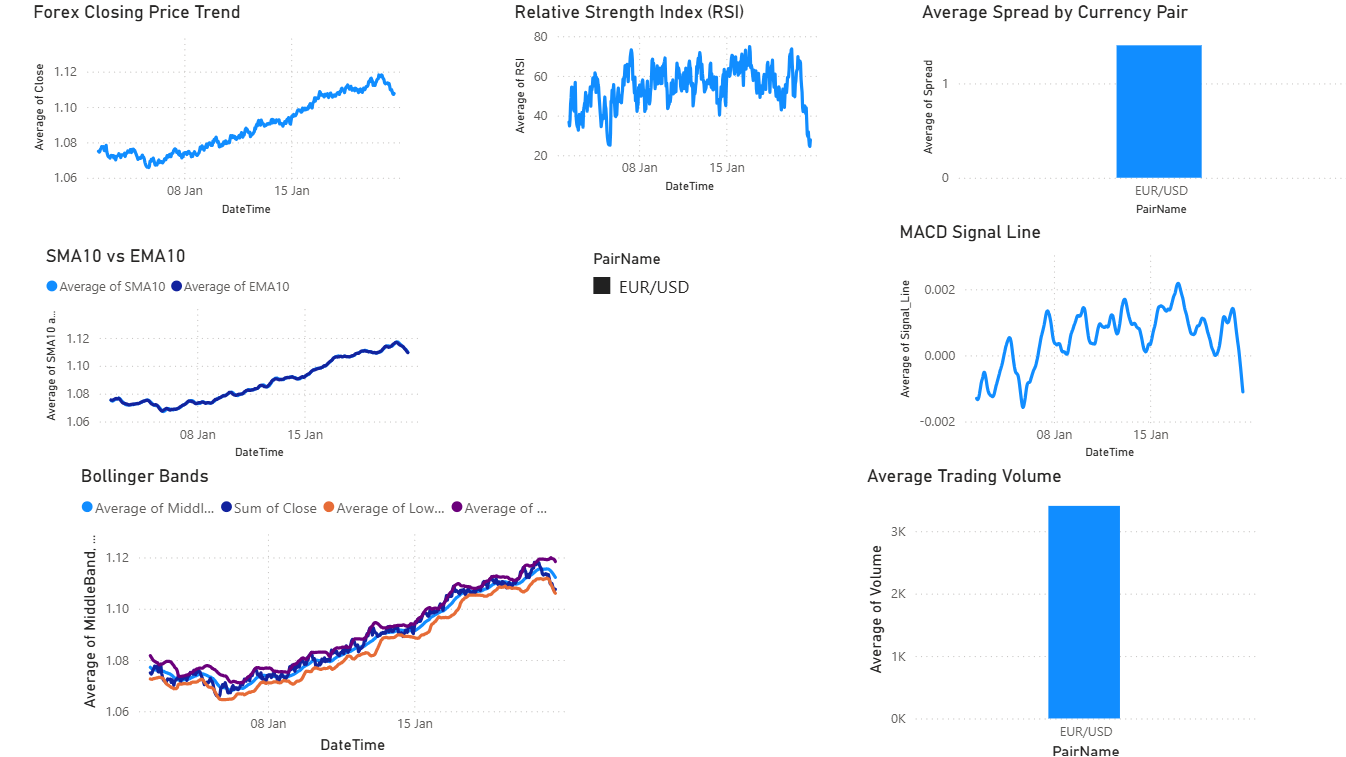

What the dashboard file says about the page in this screenshot:
{"tool":"powerbi","page":{"name":"Forex Market Analysis","canvas":[1280,720],"ordinal":1},"visuals":[{"type":"lineChart","title":"Forex Closing Price Trend","fields":{"Y":["Avg(forex_price_processed.Close)"],"Category":["forex_price_processed.DateTime"]},"box":[32.6,8.1,362.8,204.7],"z":0},{"type":"lineChart","title":"SMA10 vs EMA10","fields":{"Y":["Avg(forex_price_processed.SMA10)","Avg(forex_price_processed.EMA10)"],"Category":["forex_price_processed.DateTime"]},"box":[44.2,234.9,364,204.7],"z":1000},{"type":"lineChart","title":"Relative Strength Index (RSI)","fields":{"Y":["Avg(forex_price_processed.RSI)"],"Category":["forex_price_processed.DateTime"]},"box":[480.2,8.1,302.3,183.7],"z":2000},{"type":"lineChart","title":"MACD Signal Line","fields":{"Y":["Avg(forex_price_processed.Signal_Line)"],"Category":["forex_price_processed.DateTime"]},"box":[838.4,212.8,346.5,226.7],"z":3000},{"type":"lineChart","title":"Bollinger Bands","fields":{"Y":["Avg(forex_price_processed.Close)","Avg(forex_price_processed.MiddleBand)","Avg(forex_price_processed.LowerBand)","Avg(forex_price_processed.UpperBand)"],"Category":["forex_price_processed.DateTime"]},"box":[76.7,439.5,468.6,273.3],"z":4000},{"type":"clusteredColumnChart","title":"Average Spread by Currency Pair","fields":{"Category":["forex_price_processed.PairName"],"Y":["Avg(forex_price_processed.Spread)"]},"box":[859.3,8.1,420.9,204.7],"z":5000},{"type":"clusteredColumnChart","title":"Average Trading Volume","fields":{"Category":["forex_price_processed.PairName"],"Y":["Avg(forex_price_processed.Volume)"]},"box":[808.1,439.5,372.1,280.2],"z":6000},{"type":"slicer","fields":{"Values":["forex_price_processed.PairName"]},"box":[545.4,234.9,172.1,123.3],"z":7000}]}

Visuals, with their boxes in screenshot pixels (x1, y1, x2, y2), scaled from the page's 1280x720 canvas onto the 1346x757 screenshot:
"Forex Closing Price Trend" lineChart: [34, 9, 416, 224]
"SMA10 vs EMA10" lineChart: [46, 247, 429, 462]
"Relative Strength Index (RSI)" lineChart: [505, 9, 823, 202]
"MACD Signal Line" lineChart: [882, 224, 1246, 462]
"Bollinger Bands" lineChart: [81, 462, 573, 749]
"Average Spread by Currency Pair" clusteredColumnChart: [904, 9, 1345, 224]
"Average Trading Volume" clusteredColumnChart: [850, 462, 1241, 756]
slicer - forex_price_processed.PairName: [574, 247, 754, 377]
